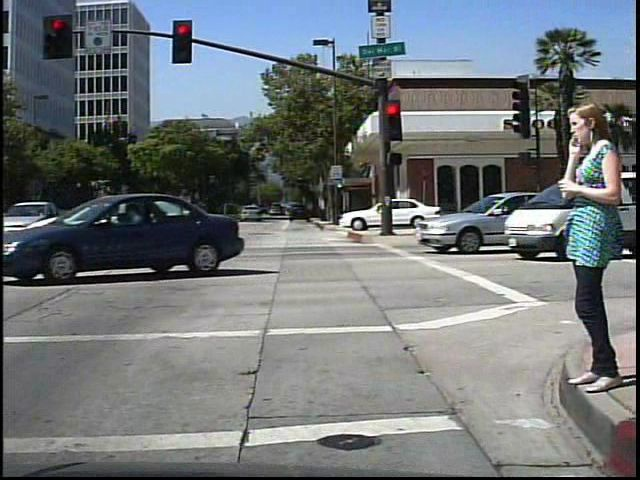person: (555, 90, 622, 402)
